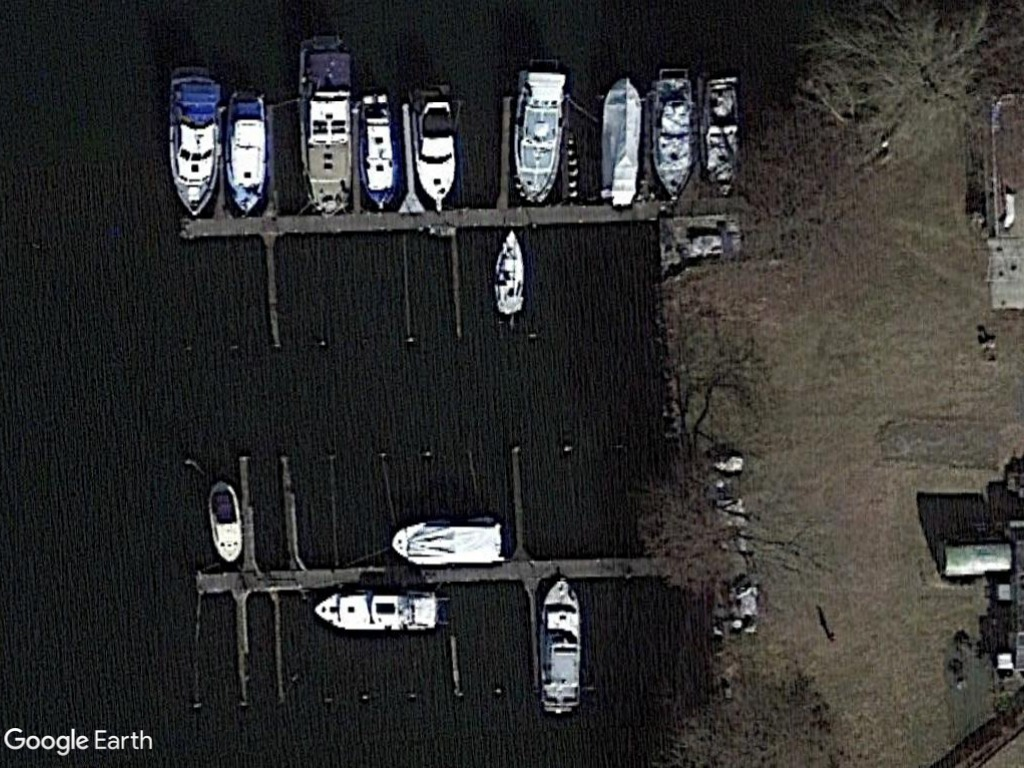boat: (296, 32, 359, 221), (160, 61, 227, 223), (506, 59, 572, 211), (647, 65, 701, 210), (594, 75, 647, 218), (305, 584, 446, 637), (536, 573, 586, 720), (408, 84, 461, 216), (388, 514, 509, 568), (224, 85, 271, 220), (356, 84, 398, 218), (203, 477, 247, 568), (492, 227, 531, 321)
